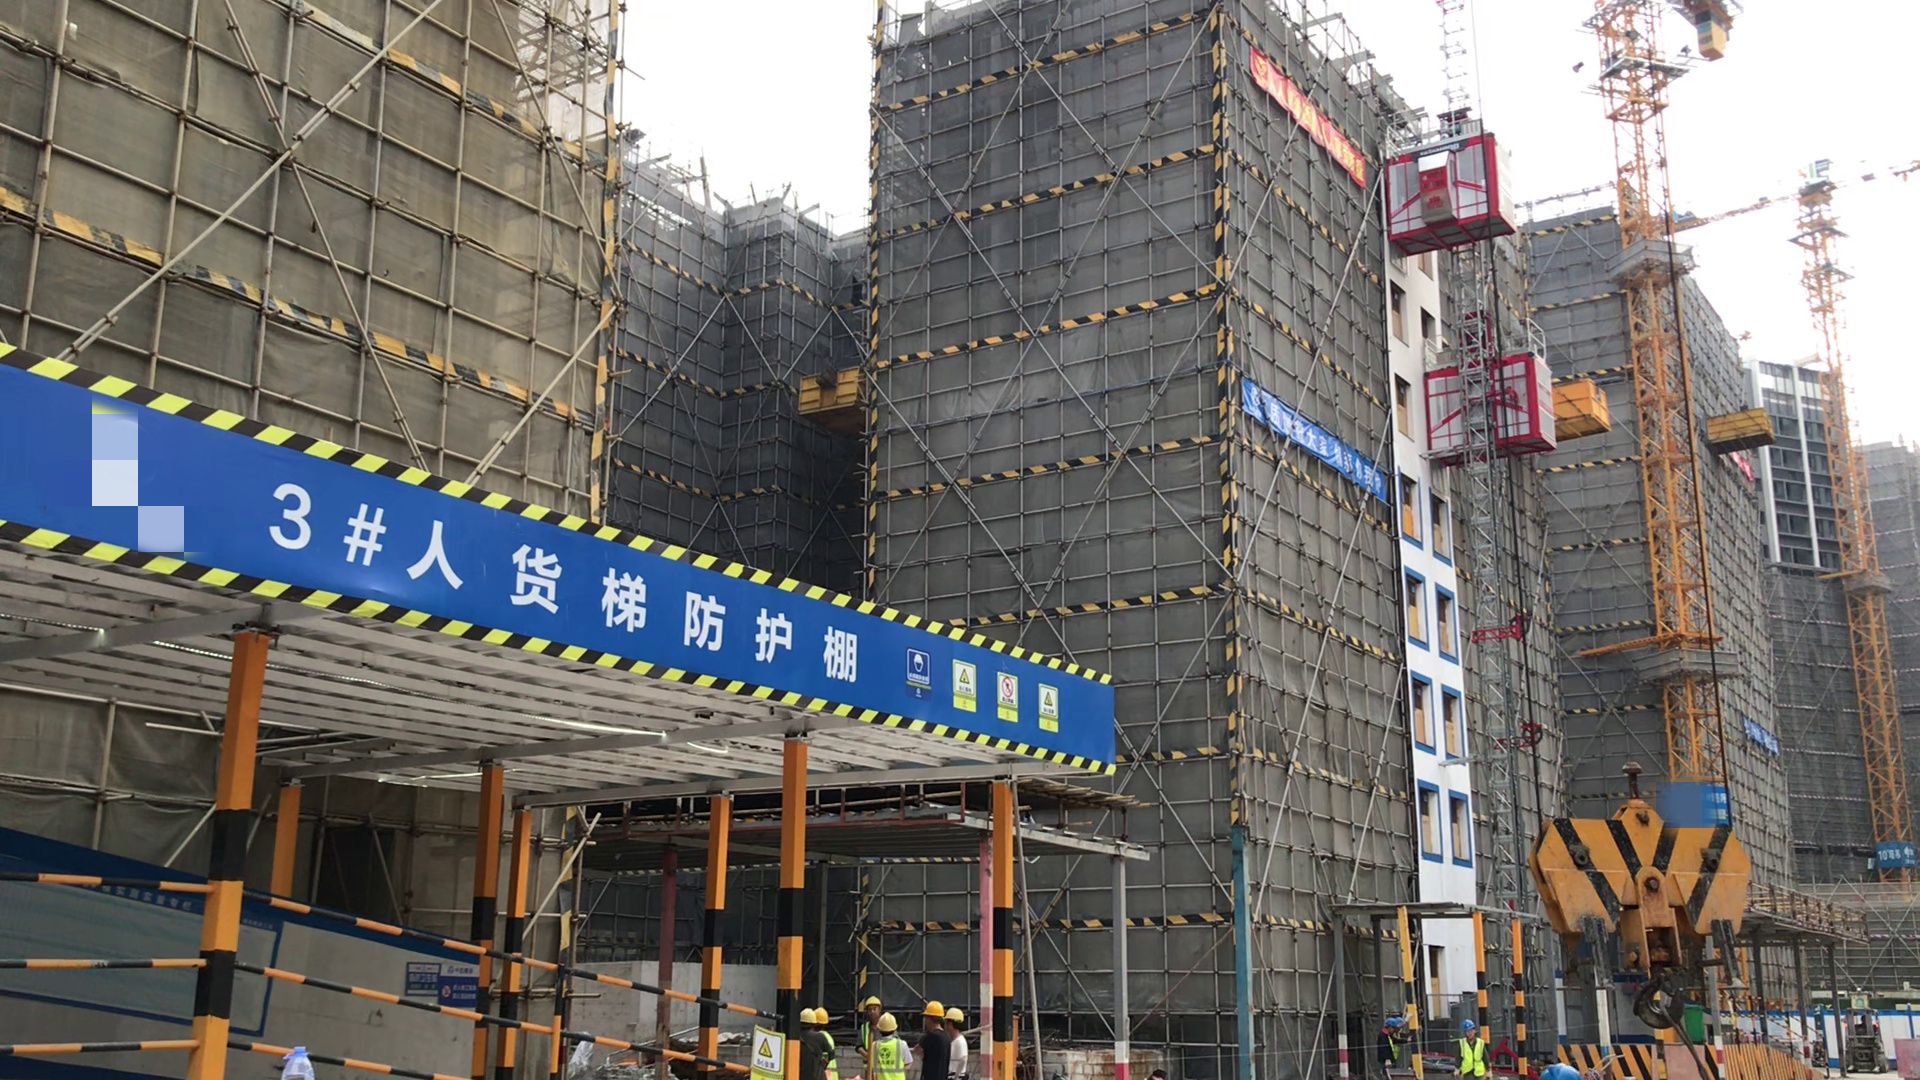helmet: (920, 1000, 945, 1021), (1381, 1011, 1410, 1028), (799, 1009, 829, 1025), (875, 1014, 901, 1032), (1459, 1017, 1479, 1034), (947, 1006, 964, 1025), (865, 996, 882, 1011)
hook: (1540, 761, 1754, 1015)
person: (794, 1003, 836, 1080), (1446, 1014, 1491, 1080), (871, 1013, 910, 1076), (917, 999, 944, 1080), (945, 1003, 971, 1079)
slogan: (1240, 371, 1388, 505), (1255, 43, 1363, 192), (907, 639, 1068, 735), (747, 1019, 787, 1080)
